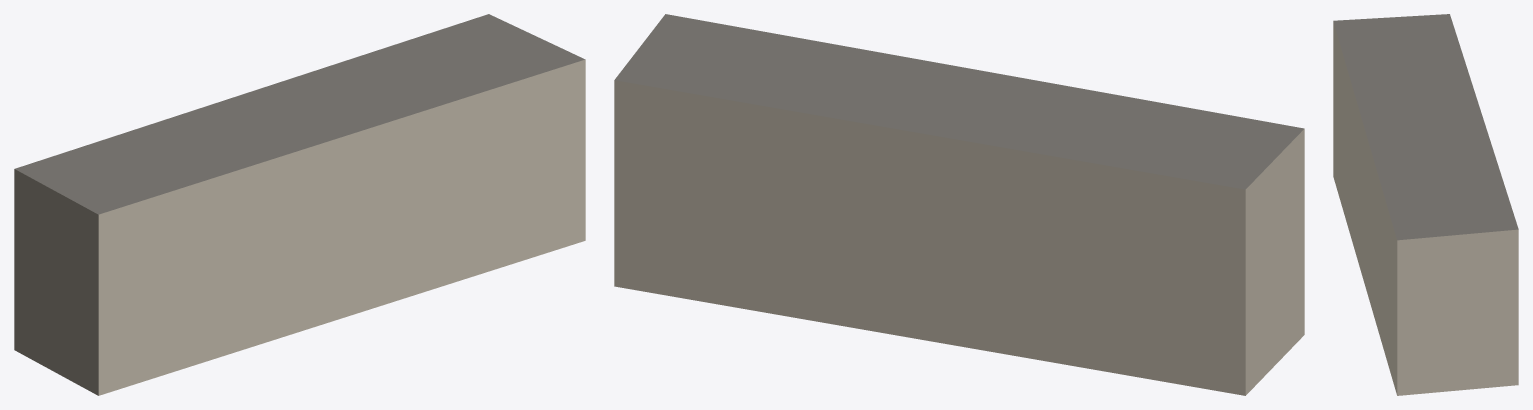
3 renders of one model, left to right at view 1: azimuth 30°, elevation 25°; view 2: azimuth 150°, elevation 25°; view 3: azimuth 270°, elevation 25°, orthographic. The views are drawn at different scales.
Parts seen in each view (by area): view 1: HP-w987283666; view 2: HP-w987283666; view 3: HP-w987283666.
Part boxes in pixels (bbox=[...]): HP-w987283666: bbox=[14, 14, 585, 395]; HP-w987283666: bbox=[614, 14, 1304, 395]; HP-w987283666: bbox=[1333, 14, 1518, 395].
Size of the model in its own units: 56.15 by 18 by 19.45.
